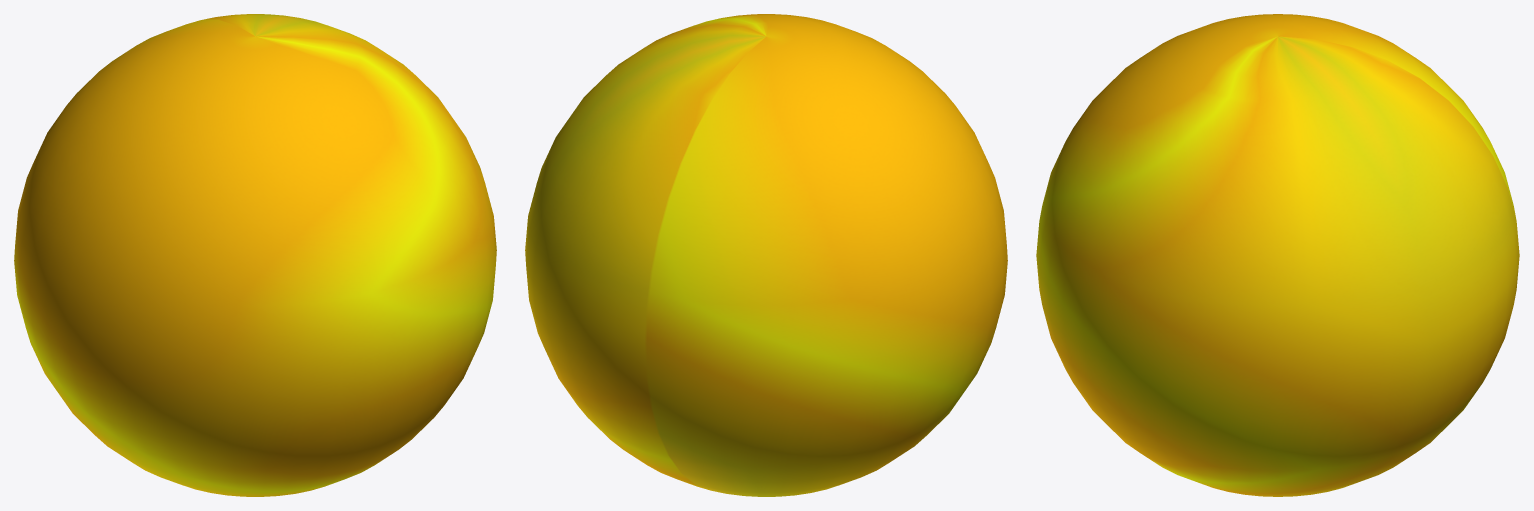
The model's file is sun.obj.
3 views of the same model, side by side, from view 1: azimuth 30°, elevation 25°; view 2: azimuth 150°, elevation 25°; view 3: azimuth 270°, elevation 25° (orthographic).
Parts seen in each view (by area): view 1: Sph_re01; view 2: Sph_re01; view 3: Sph_re01.
Part boxes in pixels (left/top/right/bottom): Sph_re01: left=14, top=14, right=496, bottom=496; Sph_re01: left=525, top=14, right=1007, bottom=496; Sph_re01: left=1036, top=14, right=1519, bottom=496.
Size of the model in its own units: 78.74 by 78.74 by 78.74.
1 material, 1 textured.
